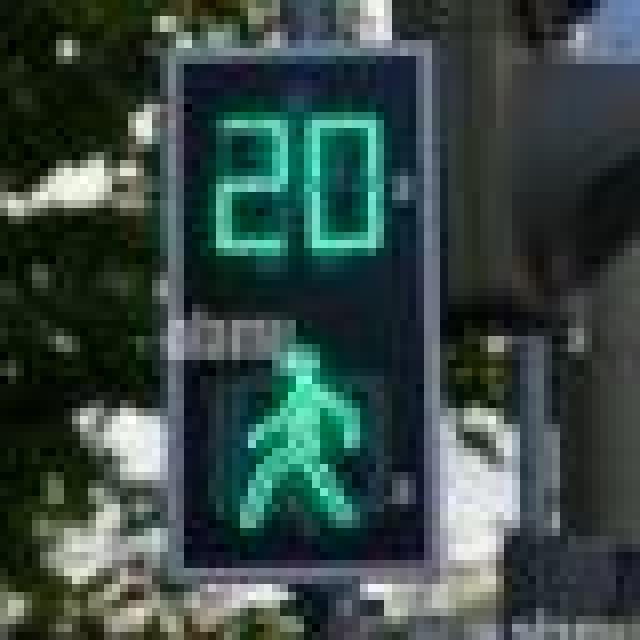greenlight: (128, 8, 424, 584)
